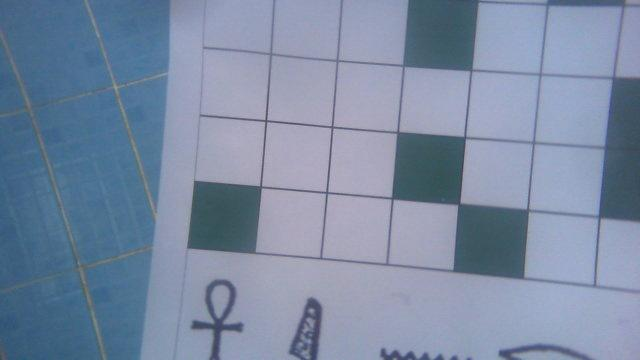Ankh: (186, 274, 254, 360)
